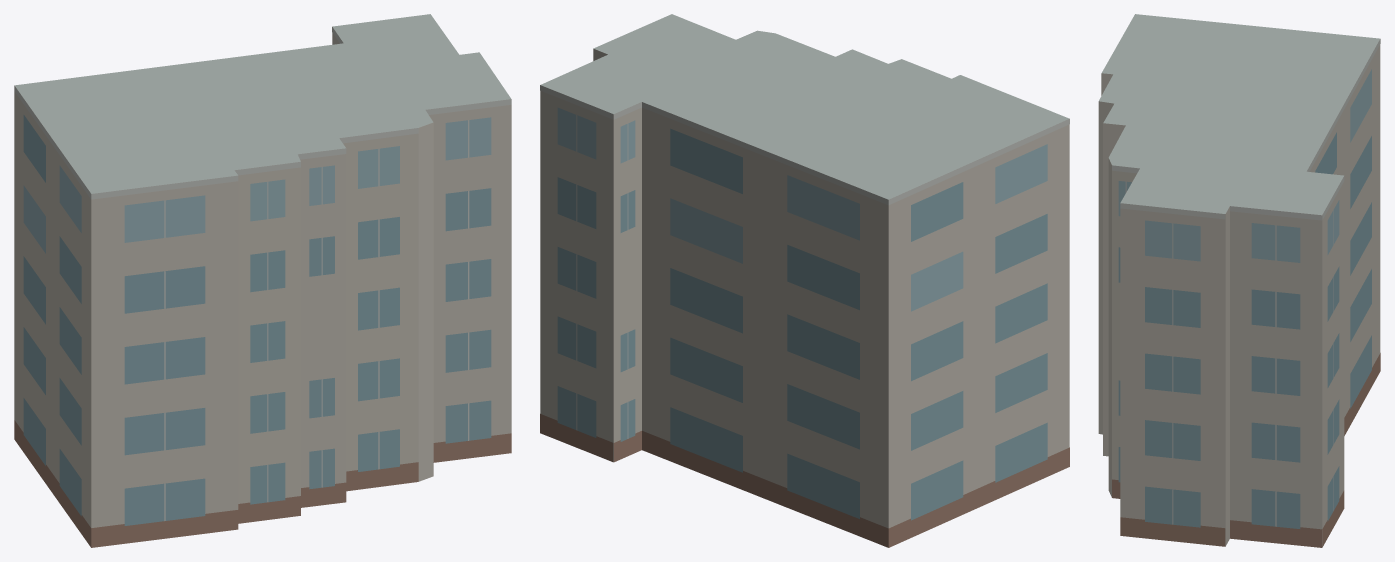
The model's file is survey-upis-32707043.glb.
3 views of the same model, side by side, from view 1: azimuth 30°, elevation 25°; view 2: azimuth 150°, elevation 25°; view 3: azimuth 270°, elevation 25° (orthographic). The views are drawn at different scales.
Parts seen in each view (by area): view 1: survey-upis-32707043.tmp; view 2: survey-upis-32707043.tmp; view 3: survey-upis-32707043.tmp.
Boxes of the visible parts, box(x1,y1,x2,y2) form: survey-upis-32707043.tmp: box(14, 14, 511, 547); survey-upis-32707043.tmp: box(540, 14, 1069, 547); survey-upis-32707043.tmp: box(1098, 14, 1380, 547).
Size of the model in its own units: 19.73 by 15.2 by 11.68.
